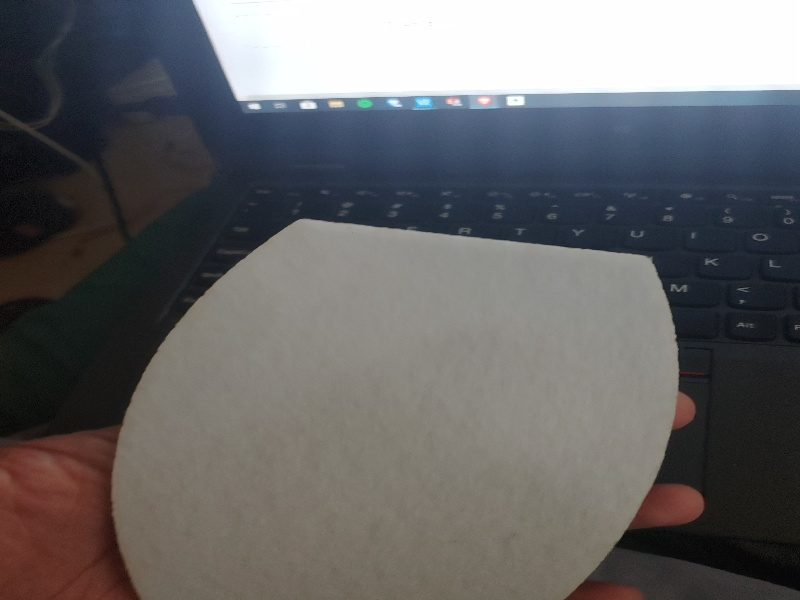Filter: (111, 218, 675, 600)
